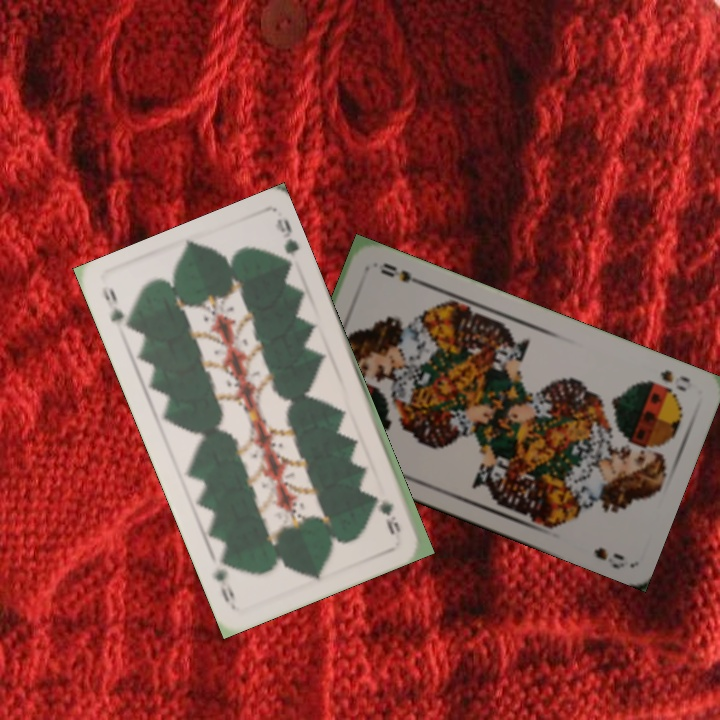G9: (98, 283, 135, 335), (377, 496, 404, 537)
SO: (656, 366, 693, 394)
